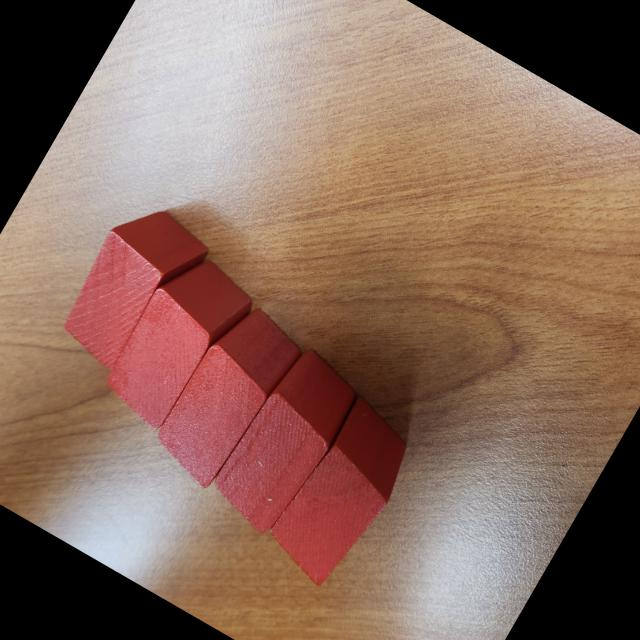red: (255, 392, 426, 599), (200, 338, 368, 544), (94, 244, 264, 445), (146, 294, 312, 498), (48, 192, 216, 386)
